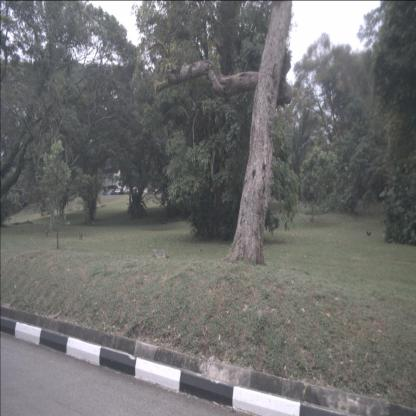vehicle-car: (106, 188, 116, 196), (98, 188, 107, 196), (124, 186, 133, 194), (133, 186, 142, 194), (115, 188, 125, 195)
